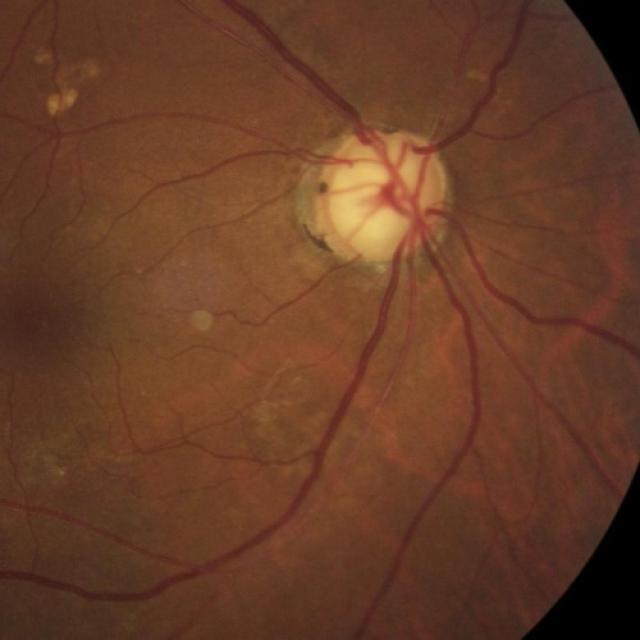OC: (328, 152, 420, 242)
OD: (314, 131, 447, 262)
